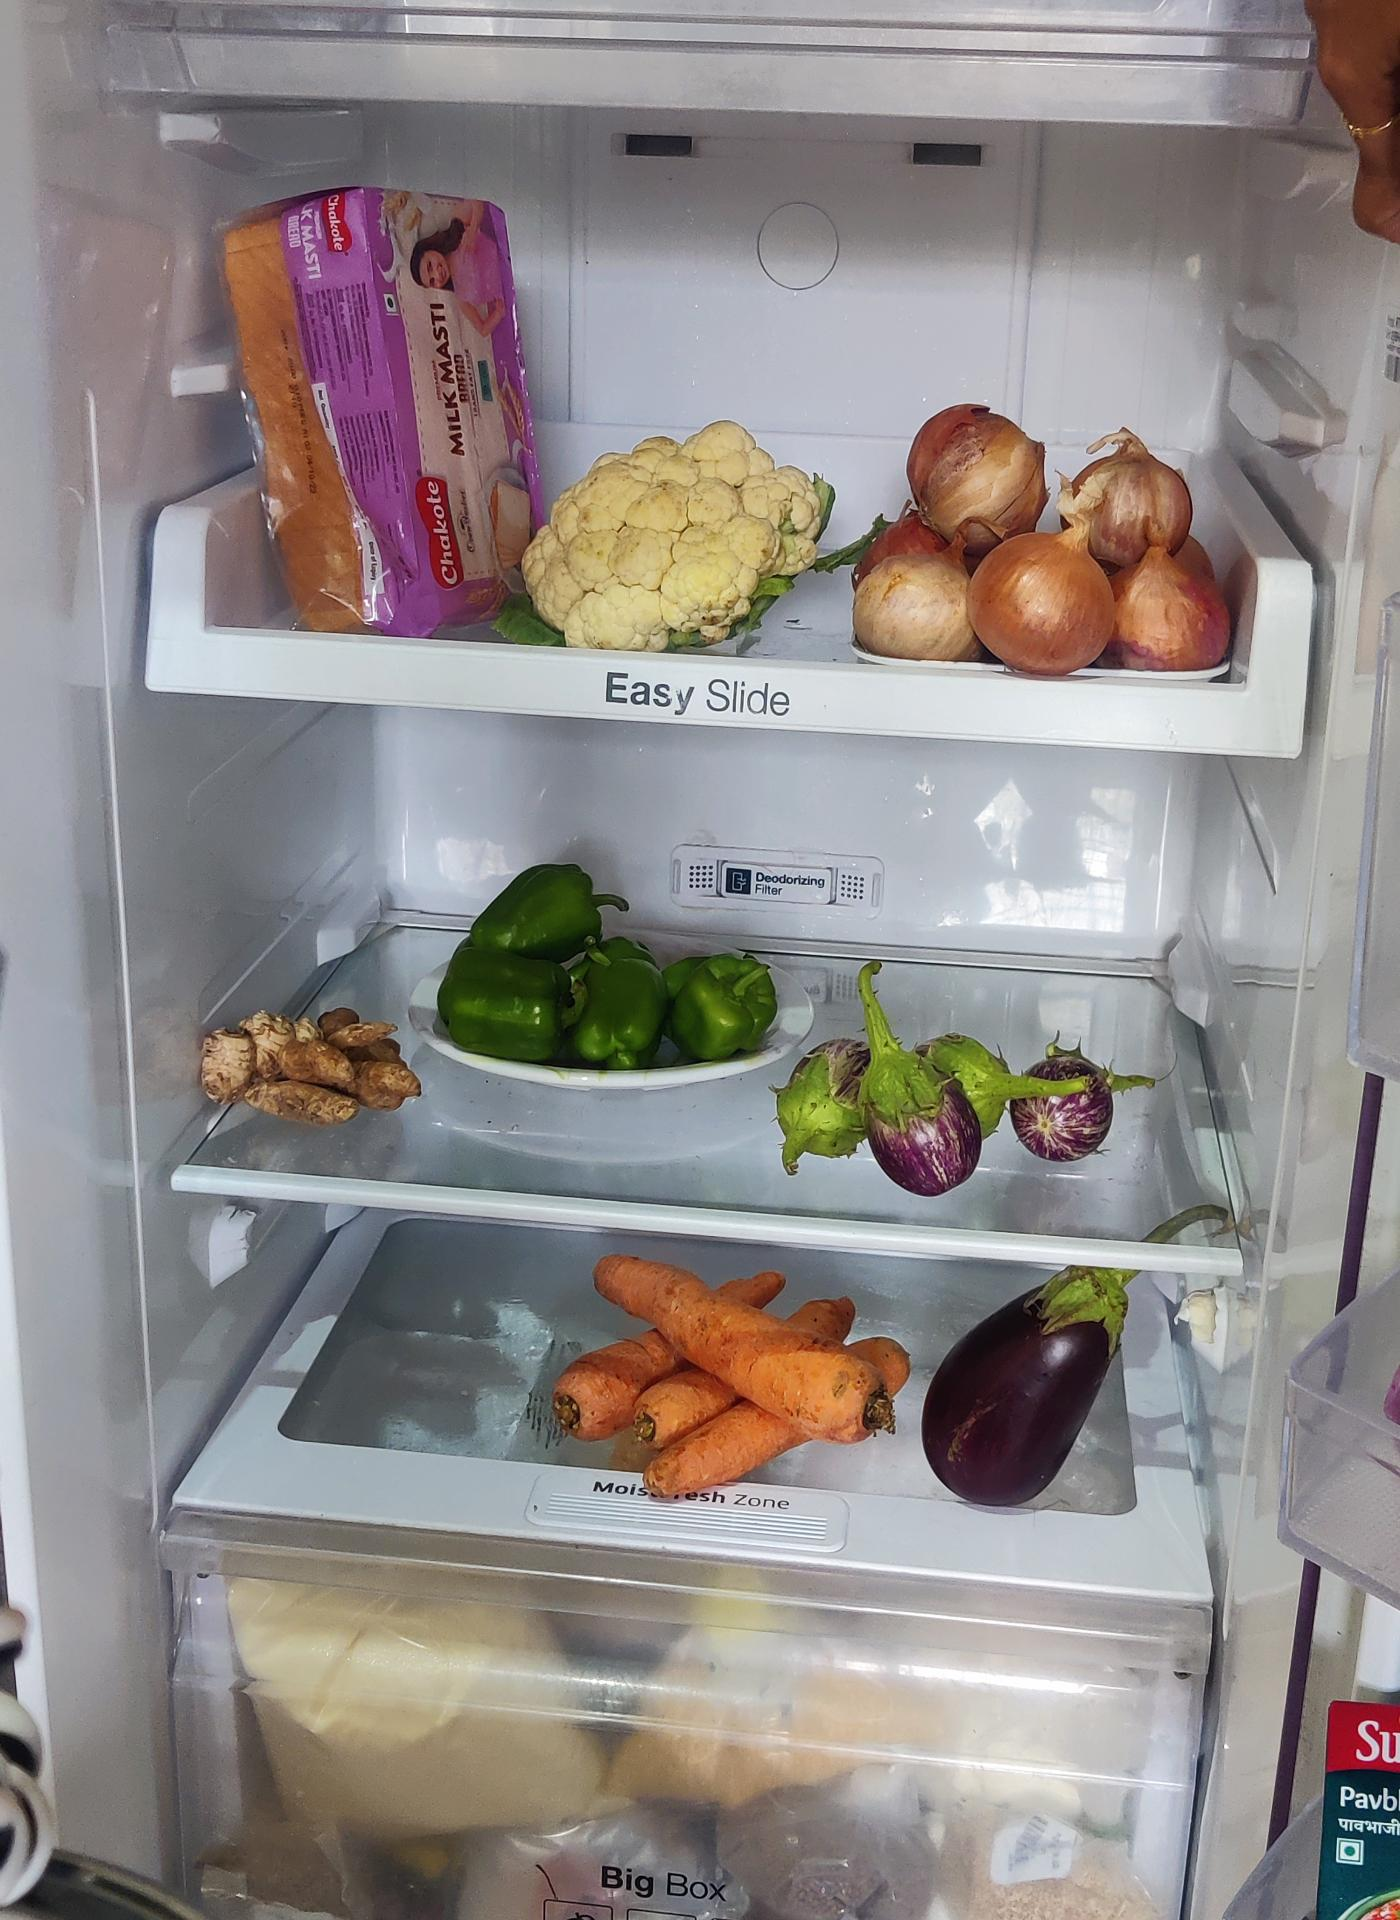bread: (219, 180, 544, 638)
brinjal: (787, 1000, 1120, 1196)
capsicum: (438, 872, 787, 1072)
carrots: (556, 1246, 924, 1495)
cauliflower: (523, 428, 830, 657)
ginger: (197, 1005, 422, 1127)
onion: (850, 410, 1237, 683)
